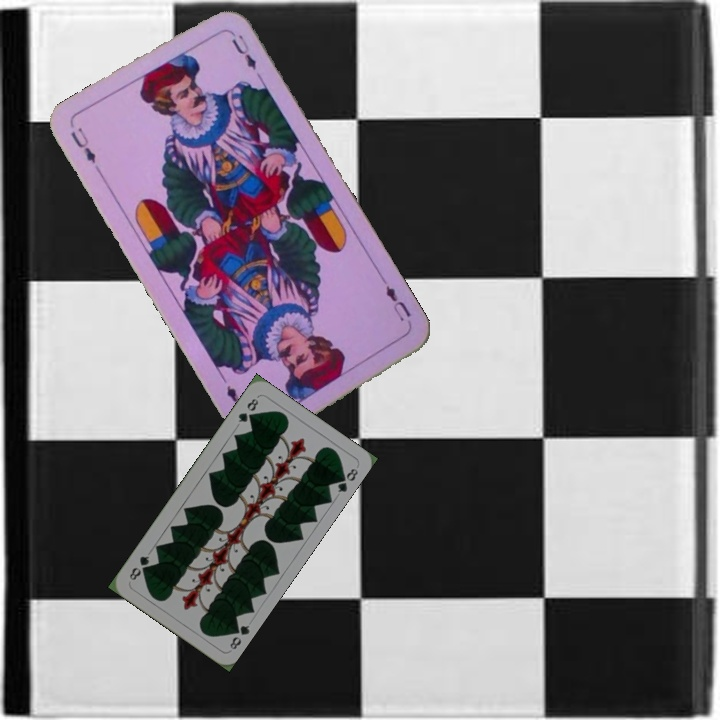EU: (378, 277, 415, 330), (66, 122, 99, 166)
G8: (234, 394, 261, 425), (226, 620, 252, 652)
